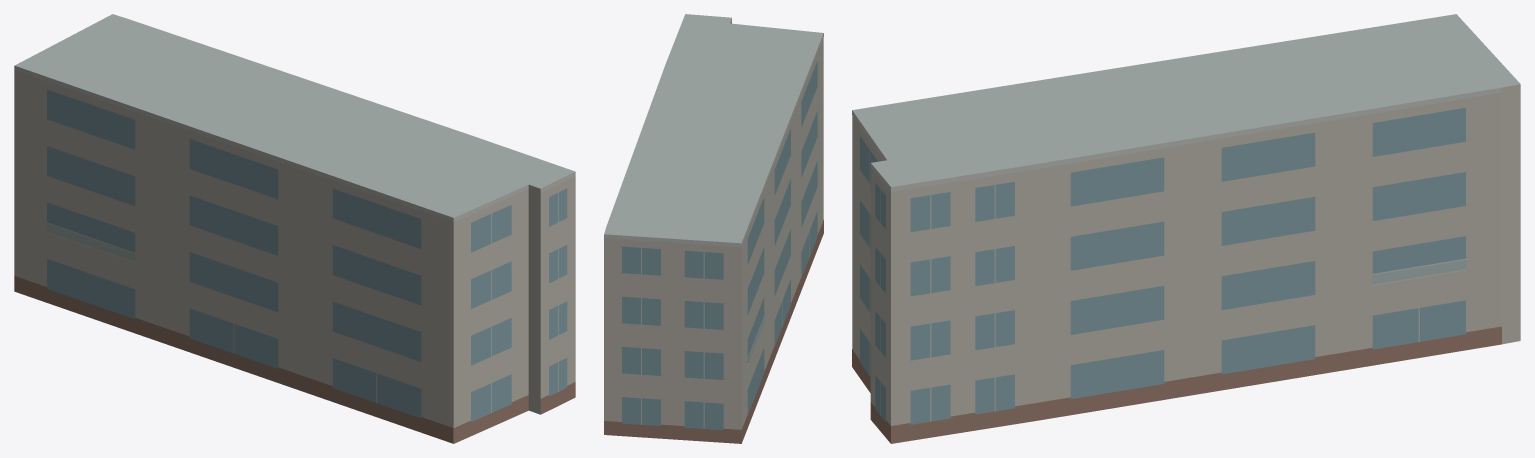
File: survey-upis-32620016.glb
The picture shows the model from 3 angles, left to right: view 1: azimuth 30°, elevation 25°; view 2: azimuth 150°, elevation 25°; view 3: azimuth 270°, elevation 25°; orthographic projection. The views are drawn at different scales.
Parts seen in each view (by area): view 1: survey-upis-32620016.tmp; view 2: survey-upis-32620016.tmp; view 3: survey-upis-32620016.tmp.
Part boxes in pixels (x1,y1,x2,y2): survey-upis-32620016.tmp: (14,14,575,443); survey-upis-32620016.tmp: (604,14,823,443); survey-upis-32620016.tmp: (852,14,1520,443).
Size of the model in its own units: 18.16 by 12.55 by 29.63.
